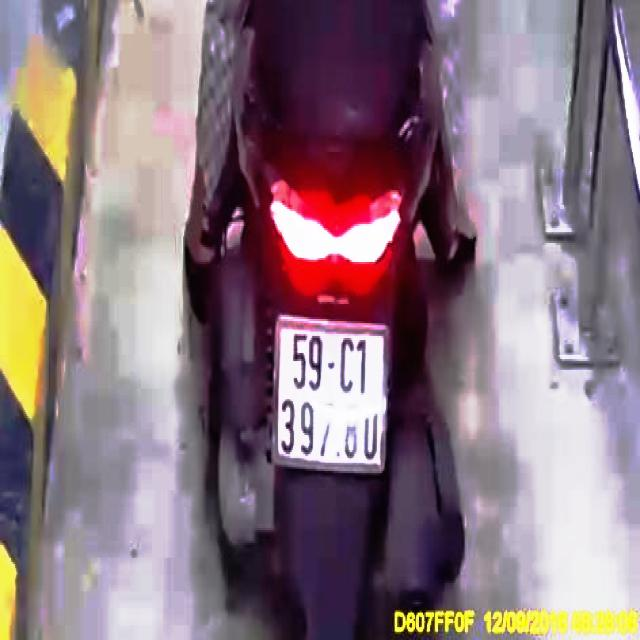license_plate: (278, 320, 387, 464)
